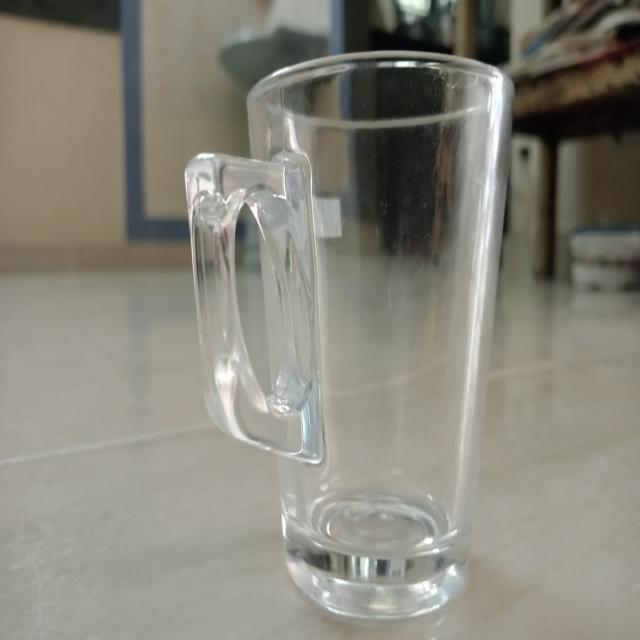glass-VX4N: (186, 51, 514, 616)
